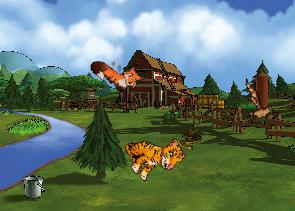eagle: (229, 78, 287, 132)
fox: (87, 42, 149, 101)
tiger: (119, 121, 188, 187)
